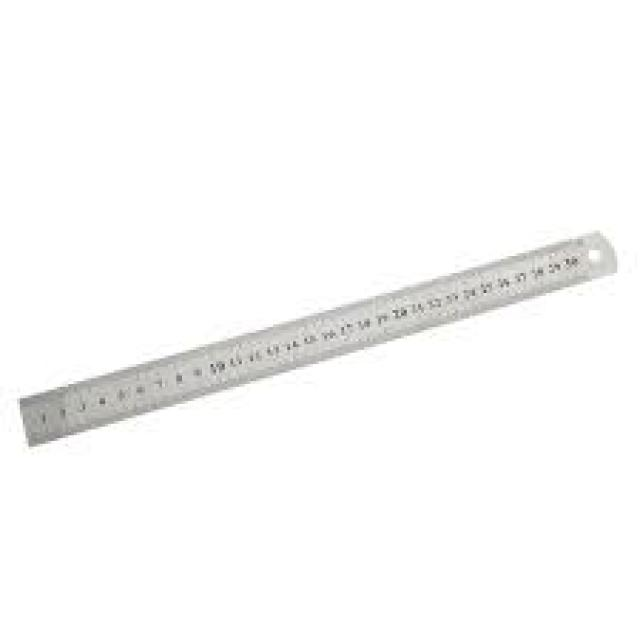Ruler: (23, 233, 614, 444)
